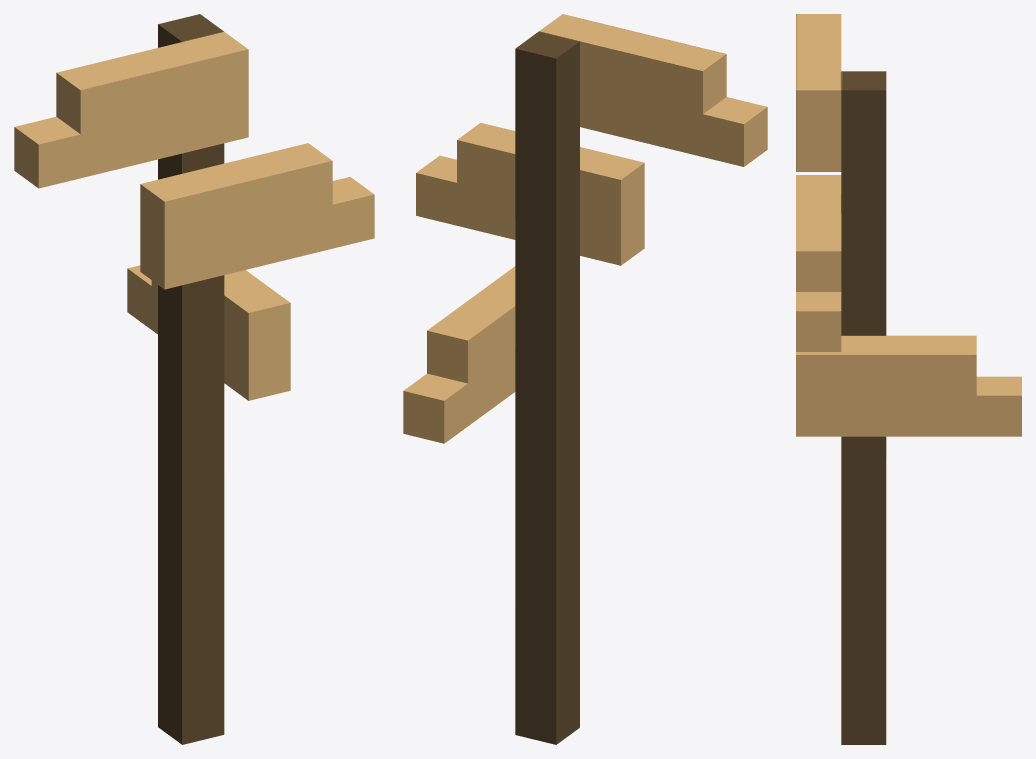
The model's file is Sing_Post.obj.
3 renders of one model, left to right at view 1: azimuth 30°, elevation 25°; view 2: azimuth 150°, elevation 25°; view 3: azimuth 270°, elevation 25°, orthographic. The views are drawn at different scales.
Parts seen in each view (by area): view 1: Sing_Post_Medieval_Assets-11.001; view 2: Sing_Post_Medieval_Assets-11.001; view 3: Sing_Post_Medieval_Assets-11.001.
Part boxes in pixels (bbox=[...]): Sing_Post_Medieval_Assets-11.001: bbox=[14, 14, 374, 744]; Sing_Post_Medieval_Assets-11.001: bbox=[403, 14, 767, 744]; Sing_Post_Medieval_Assets-11.001: bbox=[796, 14, 1021, 744].
Size of the model in its own units: 0.8 by 1.6 by 0.5.
Materials: 1 (1 with a texture image).
